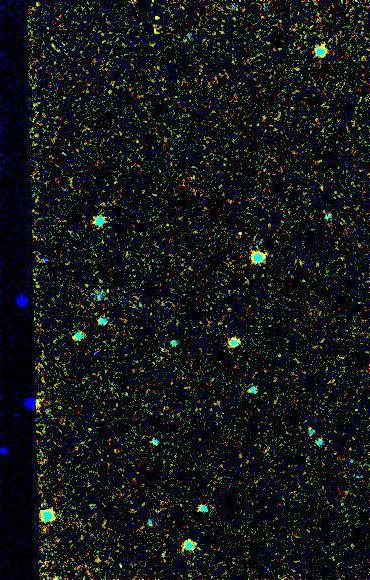star: (142, 6, 172, 36)
